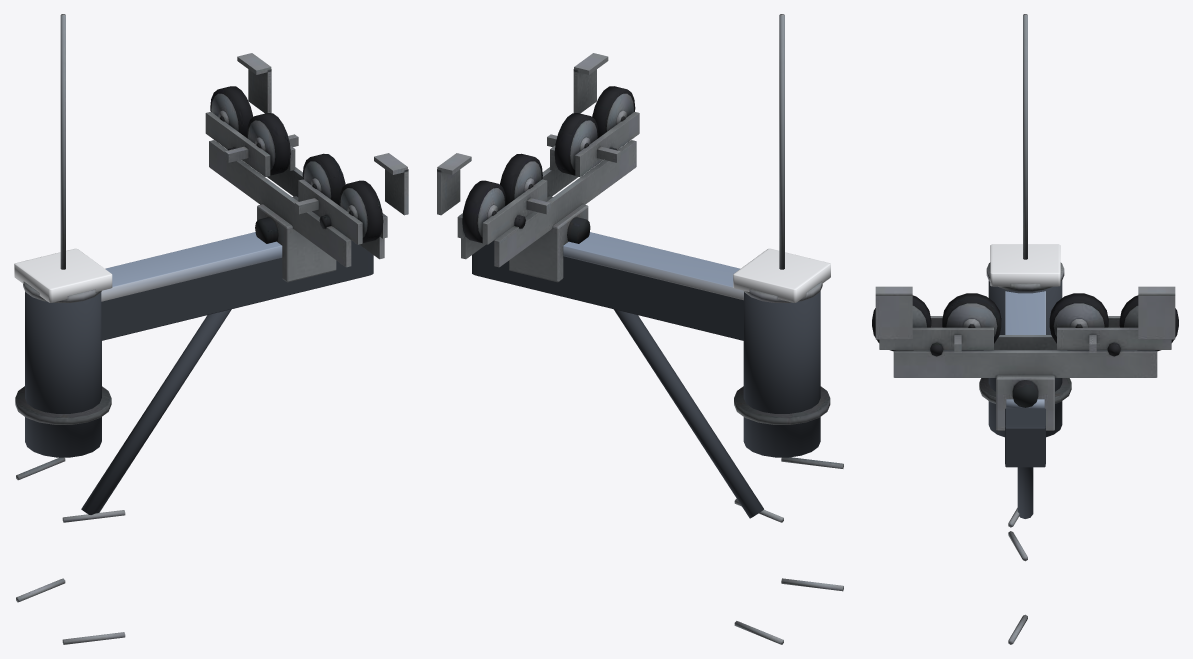
The model's file is tower_head_surface.glb.
3 views of the same model, side by side, from view 1: azimuth 30°, elevation 25°; view 2: azimuth 150°, elevation 25°; view 3: azimuth 270°, elevation 25° (orthographic). The views are drawn at different scales.
Parts seen in each view (by area): view 1: tower_head_surface, tower_head_surface_paint, tower_head_surface_snow; view 2: tower_head_surface, tower_head_surface_paint, tower_head_surface_snow; view 3: tower_head_surface, tower_head_surface_paint, tower_head_surface_snow.
Part boxes in pixels (x1,y1,x2,y2): tower_head_surface: (15, 14, 408, 644); tower_head_surface_paint: (25, 240, 373, 514); tower_head_surface_snow: (14, 232, 282, 302); tower_head_surface: (437, 14, 843, 644); tower_head_surface_paint: (472, 232, 820, 518); tower_head_surface_snow: (563, 232, 830, 302); tower_head_surface: (872, 14, 1178, 644); tower_head_surface_paint: (988, 281, 1062, 518); tower_head_surface_snow: (990, 244, 1060, 408).
Bounding box in the file's own units: 2.12 × 3.61 × 1.66.
Materials: 3 (1 with a texture image).
